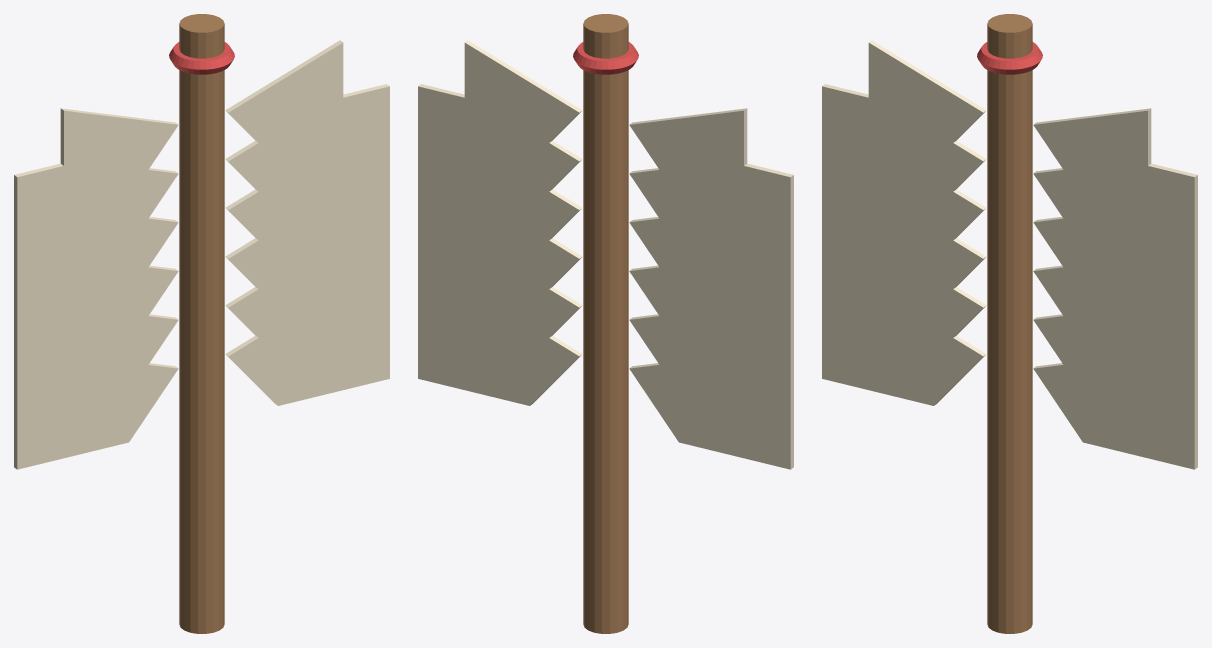
The model's file is ritual_gohei.glb.
3 views of the same model, side by side, from view 1: azimuth 30°, elevation 25°; view 2: azimuth 150°, elevation 25°; view 3: azimuth 330°, elevation 25° (orthographic).
Parts seen in each view (by area): view 1: Gohei polished wooden staff, Gohei precisely stepped white streamer.011, Gohei precisely stepped white streamer, Gohei precisely stepped white streamer.003, Gohei precisely stepped white streamer.008, Gohei precisely stepped white streamer.006, Gohei precisely stepped white streamer.005, Gohei precisely stepped white streamer.004, Gohei precisely stepped white streamer.002, Gohei precisely stepped white streamer.010, Gohei precisely stepped white streamer.001, Gohei precisely stepped white streamer.007 (+2 smaller); view 2: Gohei polished wooden staff, Gohei precisely stepped white streamer.005, Gohei precisely stepped white streamer.006, Gohei precisely stepped white streamer.008, Gohei precisely stepped white streamer, Gohei precisely stepped white streamer.003, Gohei precisely stepped white streamer.010, Gohei precisely stepped white streamer.011, Gohei precisely stepped white streamer.004, Gohei precisely stepped white streamer.002, Gohei precisely stepped white streamer.007, Gohei precisely stepped white streamer.001 (+2 smaller); view 3: Gohei polished wooden staff, Gohei precisely stepped white streamer.011, Gohei precisely stepped white streamer, Gohei precisely stepped white streamer.002, Gohei precisely stepped white streamer.009, Gohei precisely stepped white streamer.010, Gohei precisely stepped white streamer.005, Gohei precisely stepped white streamer.006, Gohei precisely stepped white streamer.004, Gohei precisely stepped white streamer.007, Gohei precisely stepped white streamer.008, Gohei precisely stepped white streamer.003 (+2 smaller).
Boxes of the visible parts, x1,y1,x2,y2 form: Gohei polished wooden staff: [179, 14, 224, 633]; Gohei precisely stepped white streamer.011: [225, 40, 389, 162]; Gohei precisely stepped white streamer: [14, 354, 178, 469]; Gohei precisely stepped white streamer.003: [14, 208, 178, 323]; Gohei precisely stepped white streamer.008: [225, 196, 389, 308]; Gohei precisely stepped white streamer.006: [225, 289, 389, 405]; Gohei precisely stepped white streamer.005: [14, 108, 178, 225]; Gohei precisely stepped white streamer.004: [14, 157, 178, 274]; Gohei precisely stepped white streamer.002: [14, 257, 178, 372]; Gohei precisely stepped white streamer.010: [225, 91, 389, 210]; Gohei precisely stepped white streamer.001: [14, 306, 178, 420]; Gohei precisely stepped white streamer.007: [225, 238, 389, 357]; Gohei polished wooden staff: [583, 14, 628, 633]; Gohei precisely stepped white streamer.005: [629, 108, 793, 225]; Gohei precisely stepped white streamer.006: [418, 287, 582, 405]; Gohei precisely stepped white streamer.008: [418, 190, 582, 308]; Gohei precisely stepped white streamer: [629, 355, 793, 469]; Gohei precisely stepped white streamer.003: [629, 209, 793, 323]; Gohei precisely stepped white streamer.010: [418, 91, 582, 210]; Gohei precisely stepped white streamer.011: [418, 40, 582, 162]; Gohei precisely stepped white streamer.004: [629, 157, 793, 274]; Gohei precisely stepped white streamer.002: [629, 257, 793, 372]; Gohei precisely stepped white streamer.007: [418, 238, 582, 356]; Gohei precisely stepped white streamer.001: [629, 308, 793, 420]; Gohei polished wooden staff: [987, 14, 1032, 633]; Gohei precisely stepped white streamer.011: [1033, 108, 1197, 225]; Gohei precisely stepped white streamer: [822, 286, 986, 405]; Gohei precisely stepped white streamer.002: [822, 189, 986, 308]; Gohei precisely stepped white streamer.009: [1033, 208, 1197, 323]; Gohei precisely stepped white streamer.010: [1033, 157, 1197, 274]; Gohei precisely stepped white streamer.005: [822, 40, 986, 162]; Gohei precisely stepped white streamer.006: [1033, 355, 1197, 469]; Gohei precisely stepped white streamer.004: [822, 91, 986, 210]; Gohei precisely stepped white streamer.007: [1033, 308, 1197, 420]; Gohei precisely stepped white streamer.008: [1033, 257, 1197, 372]; Gohei precisely stepped white streamer.003: [822, 152, 986, 243].
Bounding box in the file's own units: 1.26 × 1.95 × 0.1939.
